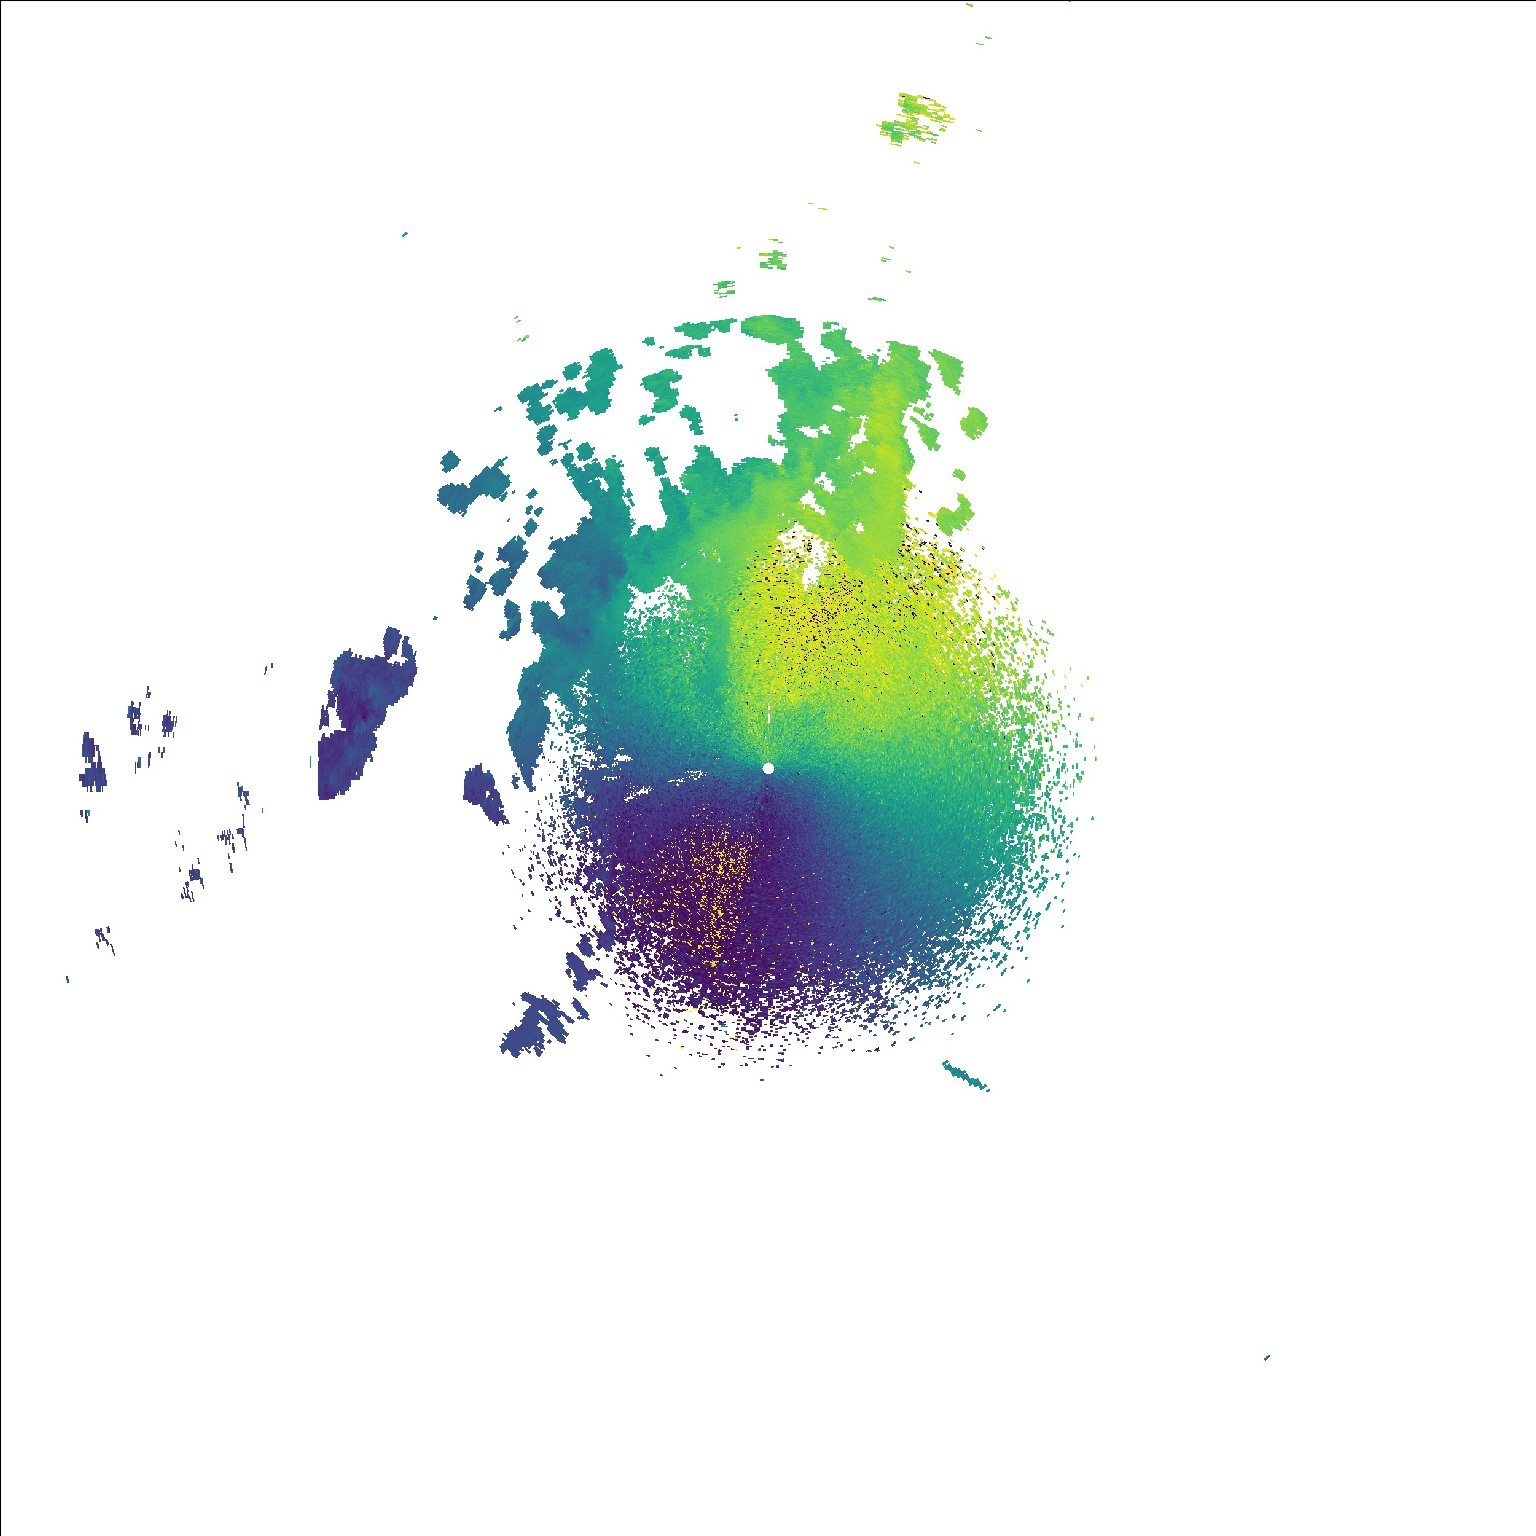fall: (935, 1056, 994, 1094)
